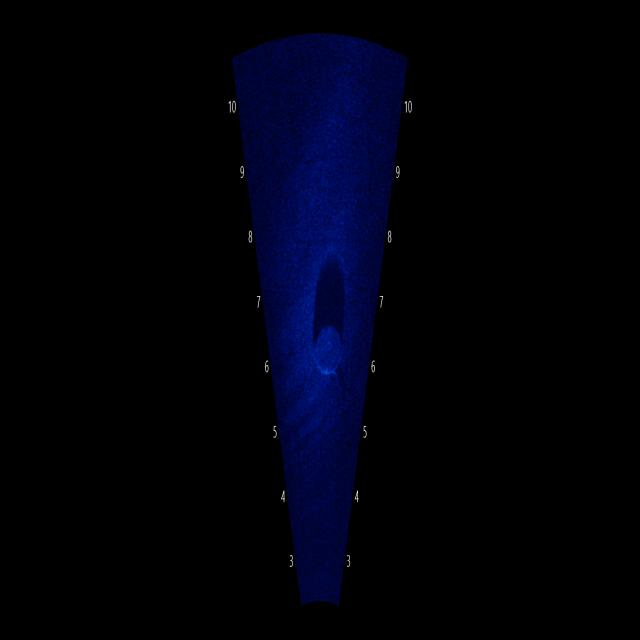circle: (305, 304, 354, 400)
